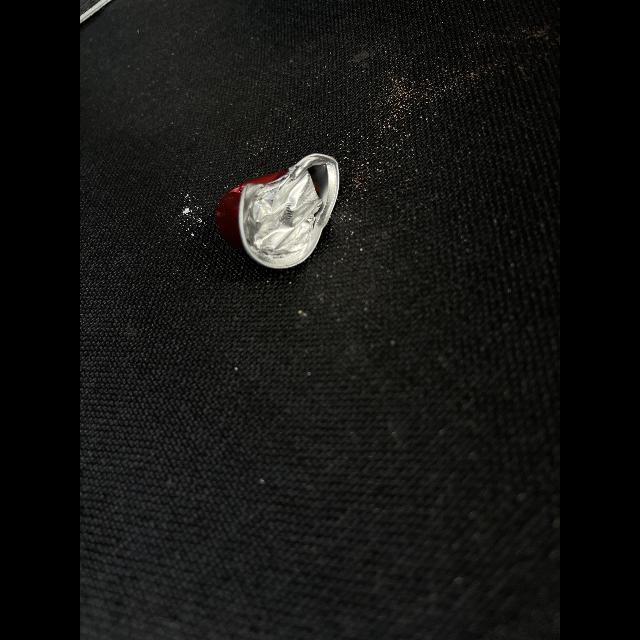damaged_capsule: (206, 142, 358, 288)
